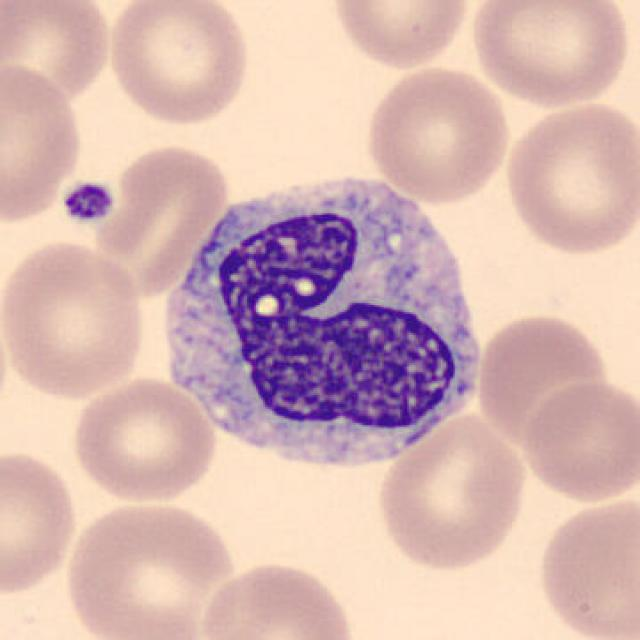Monocyte: (150, 158, 494, 480)
Platelets: (59, 178, 119, 228)
RBC: (372, 409, 532, 575), (59, 497, 238, 640), (0, 234, 149, 401), (89, 139, 233, 298), (500, 97, 638, 259), (361, 64, 514, 204), (471, 308, 617, 448), (66, 374, 220, 506), (103, 0, 254, 129), (465, 0, 634, 109), (532, 490, 638, 640), (519, 377, 638, 506), (0, 58, 85, 225), (195, 555, 361, 640), (0, 0, 116, 108), (0, 444, 80, 598), (327, 0, 474, 72)
